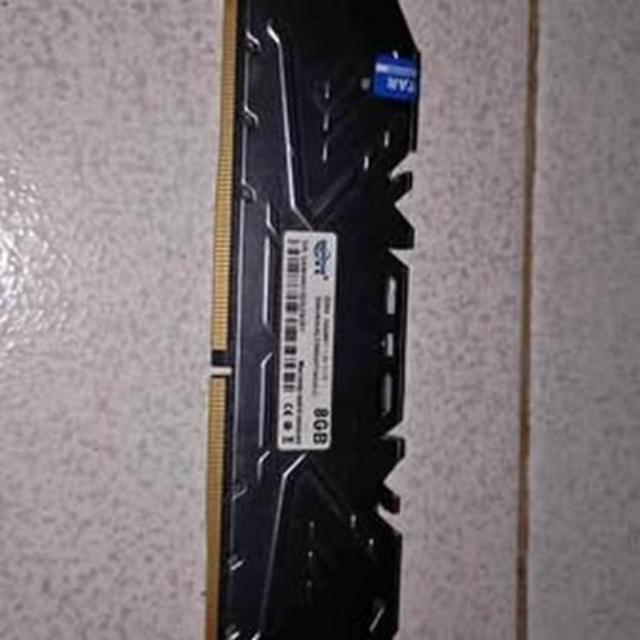RAM: (202, 0, 420, 640)
